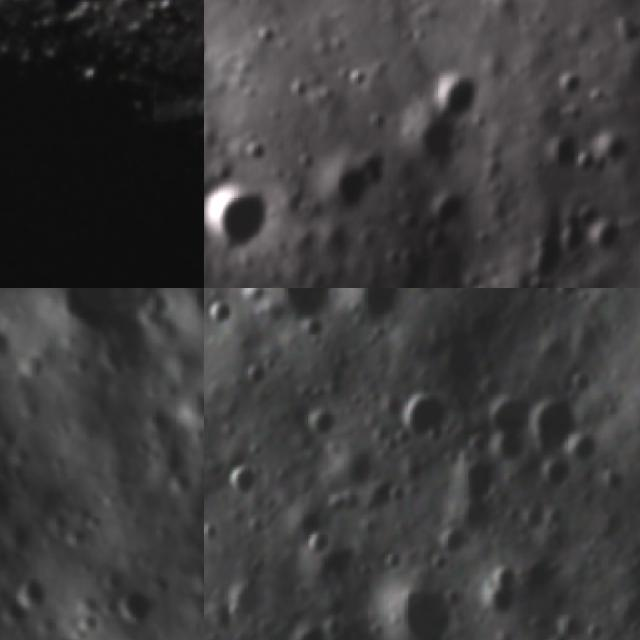crater: (0, 288, 119, 640), (22, 288, 167, 386), (375, 566, 463, 640), (204, 170, 273, 259), (100, 570, 171, 640), (392, 378, 467, 443), (315, 153, 384, 220), (398, 116, 464, 174), (159, 288, 204, 359), (438, 66, 488, 123), (44, 0, 115, 33), (222, 458, 266, 506), (426, 522, 474, 565), (298, 402, 347, 442), (547, 133, 589, 177), (537, 454, 582, 492), (294, 524, 338, 559), (236, 356, 273, 394), (204, 296, 238, 332), (204, 486, 221, 554)
